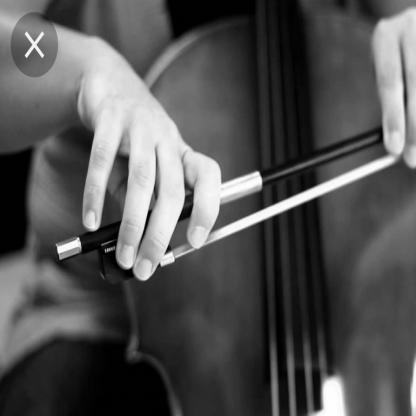bad: (54, 88, 237, 284)
